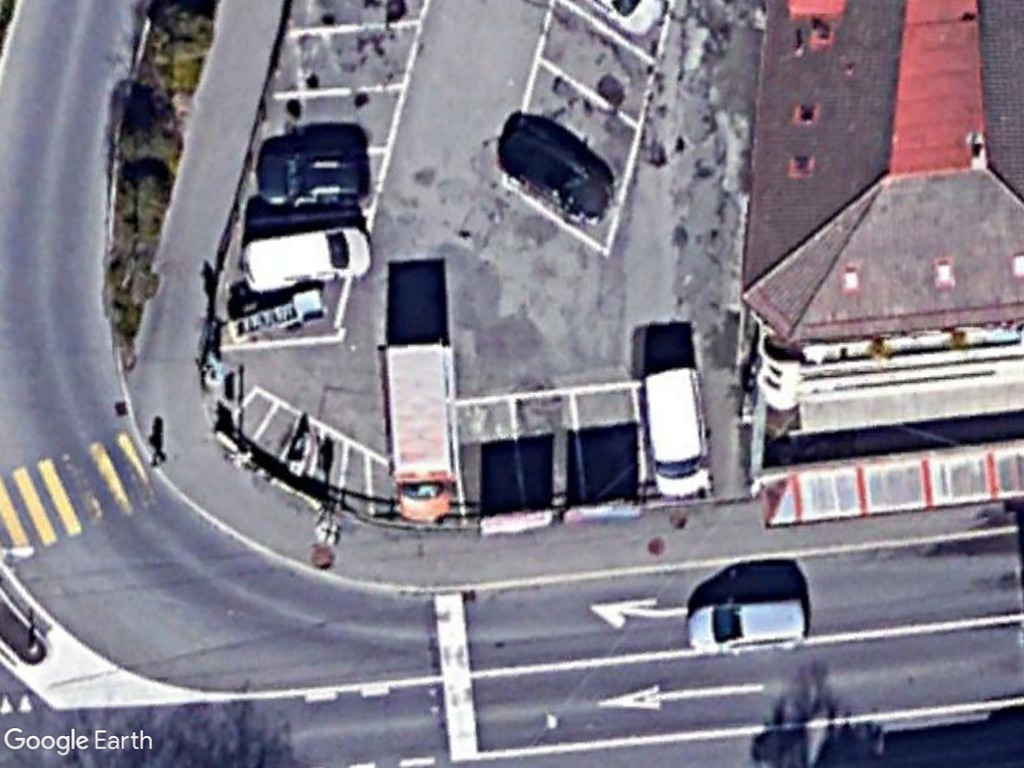car: (678, 595, 818, 659), (248, 147, 375, 204)
van: (639, 355, 713, 507), (236, 226, 377, 292)
